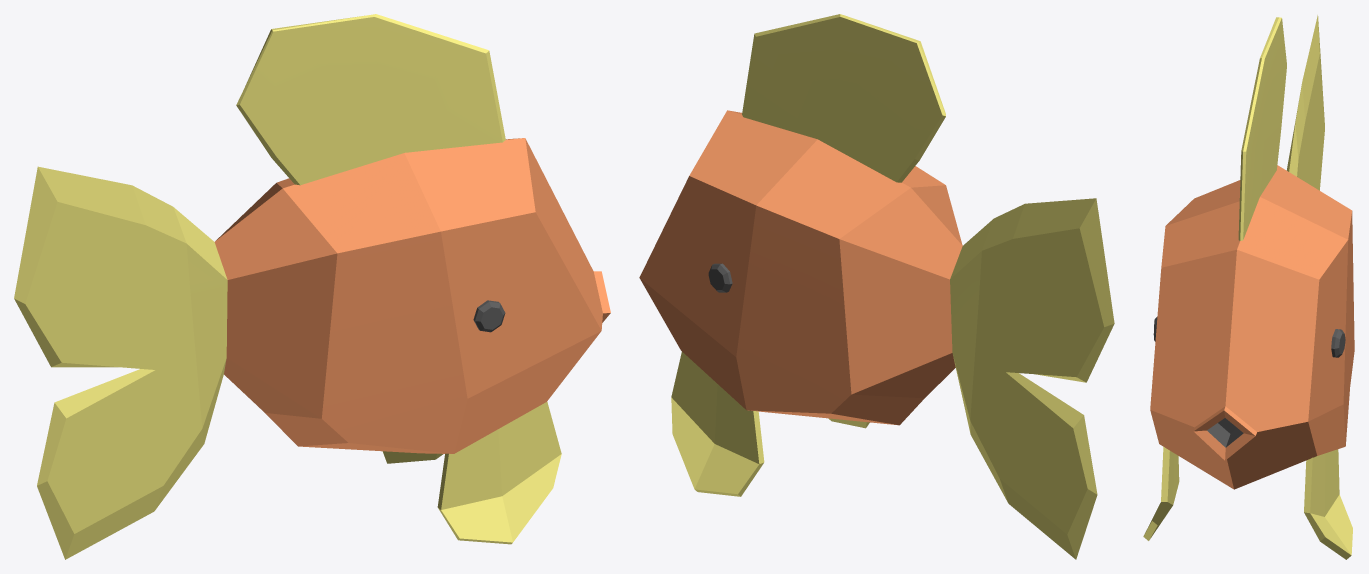
Rendered from Maja_Fishie_2.glb.
The picture shows the model from 3 angles, left to right: view 1: azimuth 30°, elevation 25°; view 2: azimuth 150°, elevation 25°; view 3: azimuth 270°, elevation 25°; orthographic projection. The views are drawn at different scales.
Parts seen in each view (by area): view 1: Goldfish_01; view 2: Goldfish_01; view 3: Goldfish_01.
Part boxes in pixels (x1=…): Goldfish_01: x1=14, y1=14, x2=610, y2=559; Goldfish_01: x1=639, y1=14, x2=1114, y2=559; Goldfish_01: x1=1143, y1=15, x2=1354, y2=559.
Bounding box in the file's own units: 12.42 × 11.21 × 4.72.
